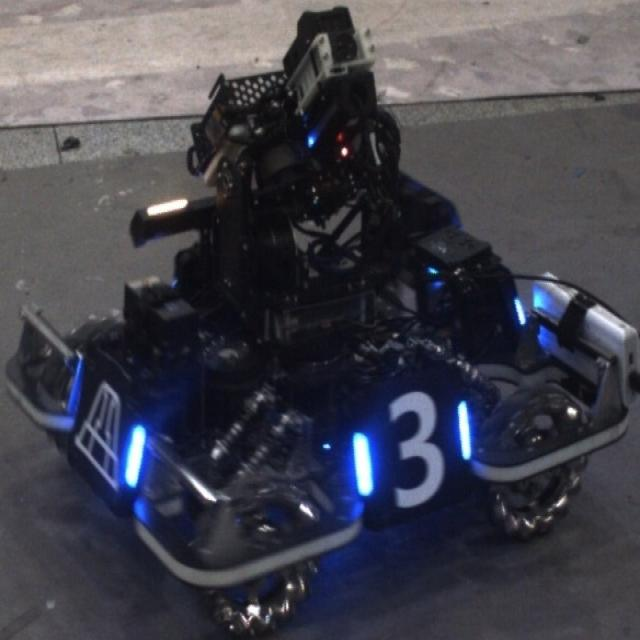B3: (351, 388, 472, 508)
